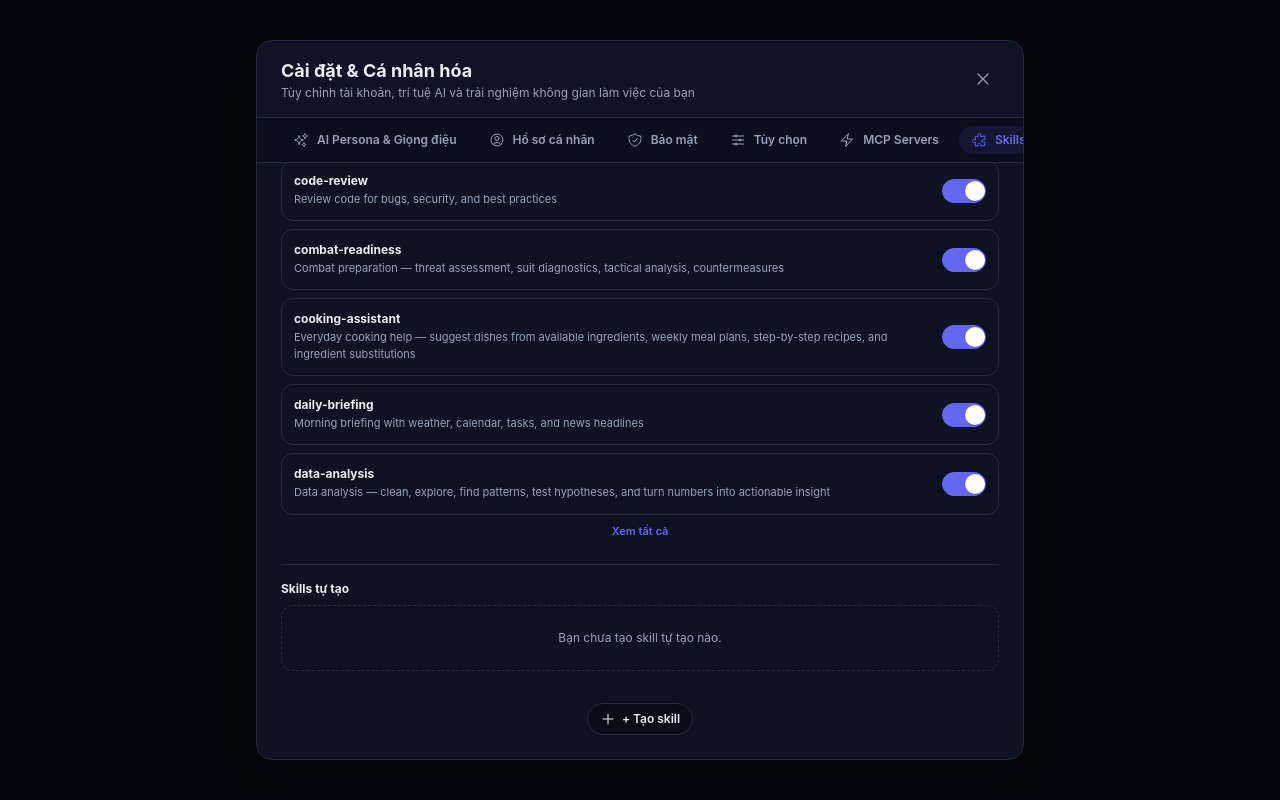
Test: UserSettingsModal - avatar upload, MCP servers, skills › shows more builtin skills after clicking "Xem tất cả"
(page scrolled)
Click the button "Xem tất cả": (640, 531) [612,522,668,540]
(page scrolled)
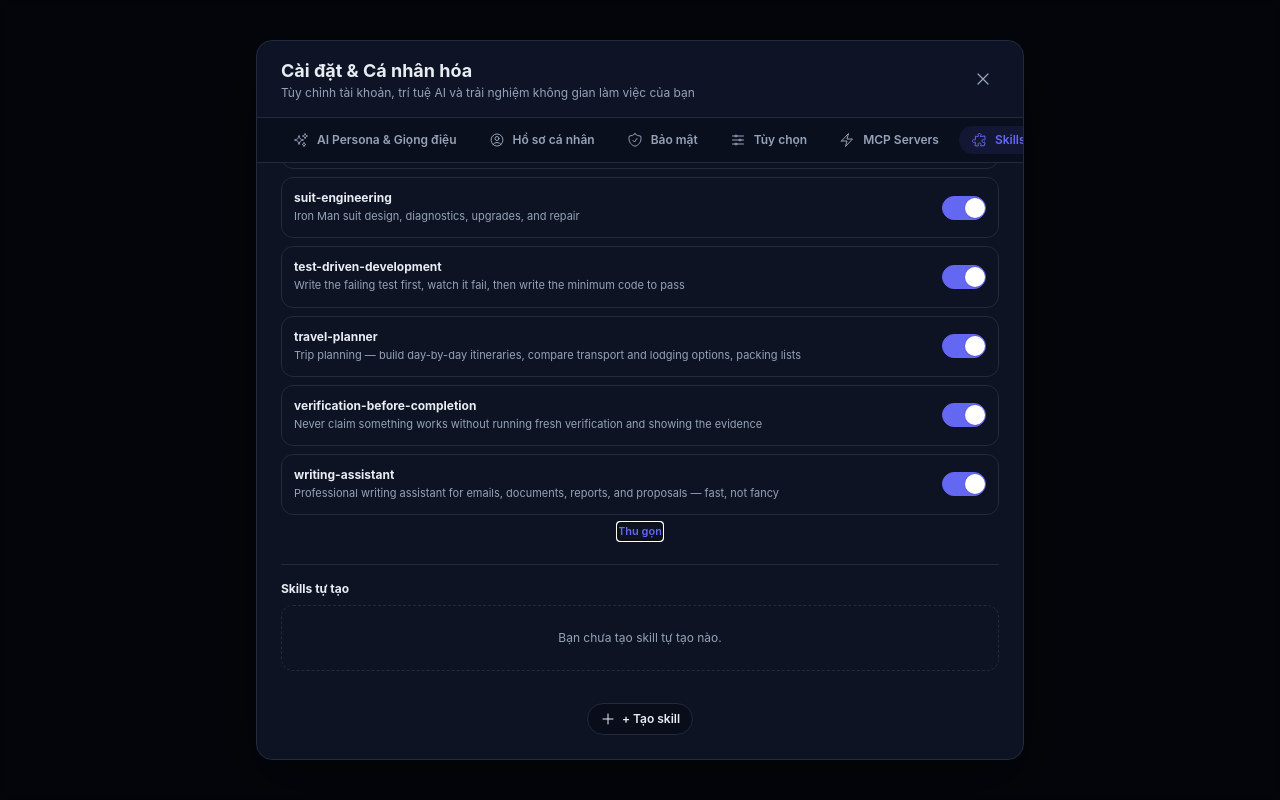
Expected: the button "Thu gọn" is shown, [618,523,662,540]
